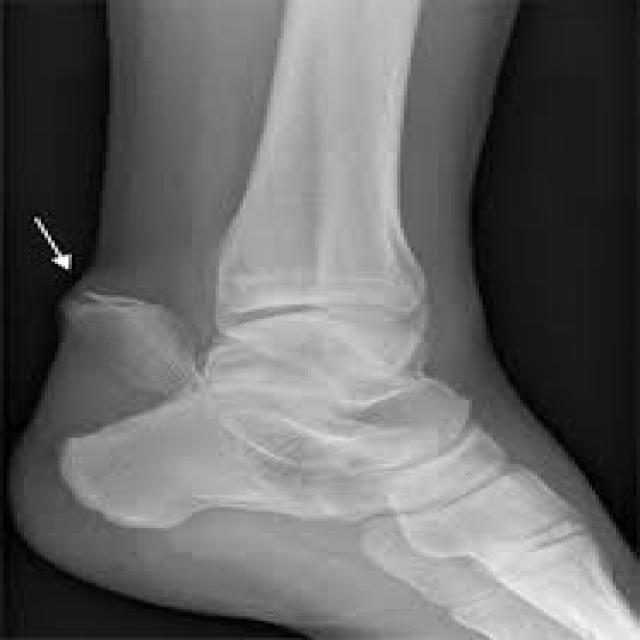fracture: (49, 242, 281, 424)
